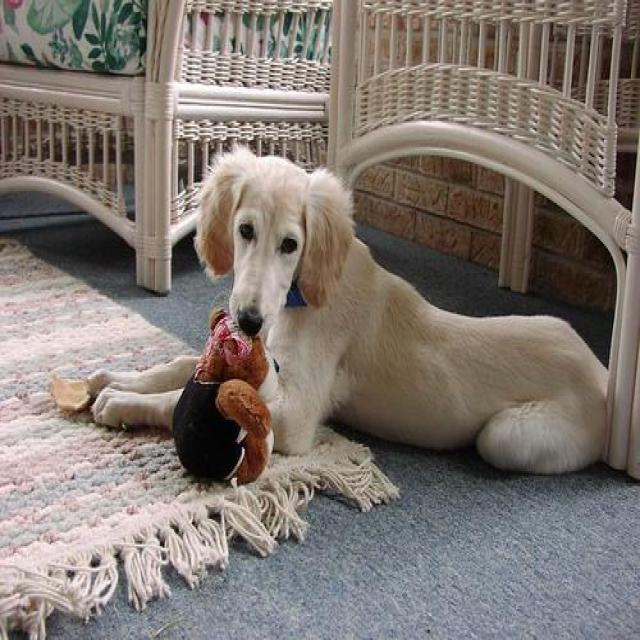saluki: (83, 138, 620, 482)
